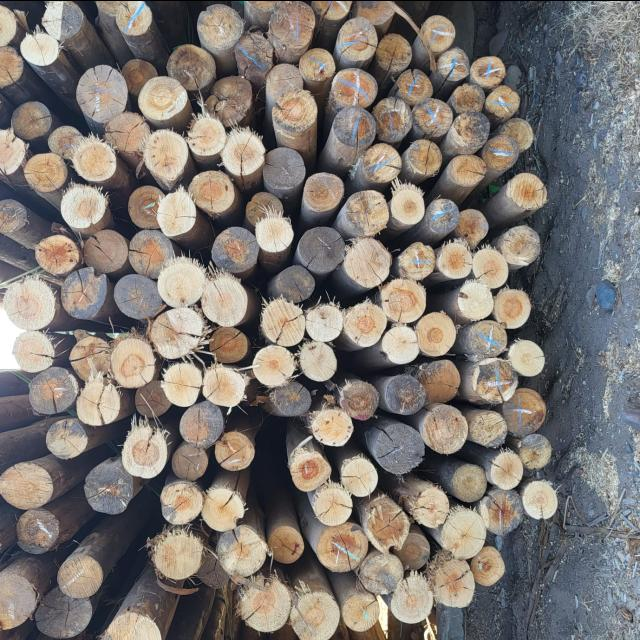package: (8, 0, 559, 637), (1, 0, 182, 264), (0, 369, 174, 640)
